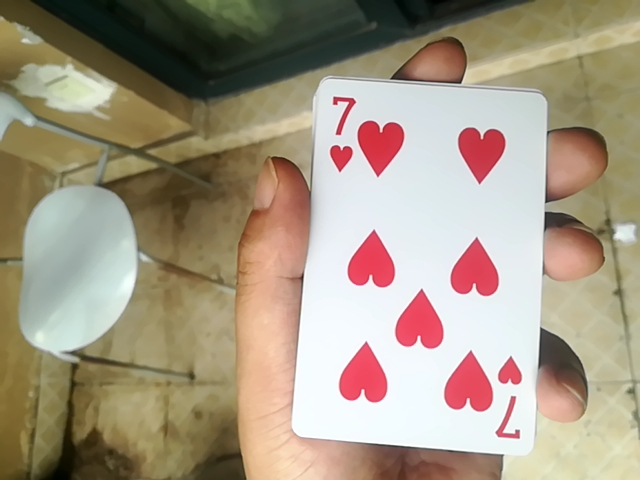hx 7: (304, 87, 542, 449)
